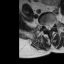CCS_normal: (48, 23, 50, 32)
LFS_normal: (52, 20, 54, 28)
LLS_normal: (50, 22, 52, 31)
RFS_normal: (43, 22, 45, 29)
RLS_normal: (45, 23, 48, 31)
